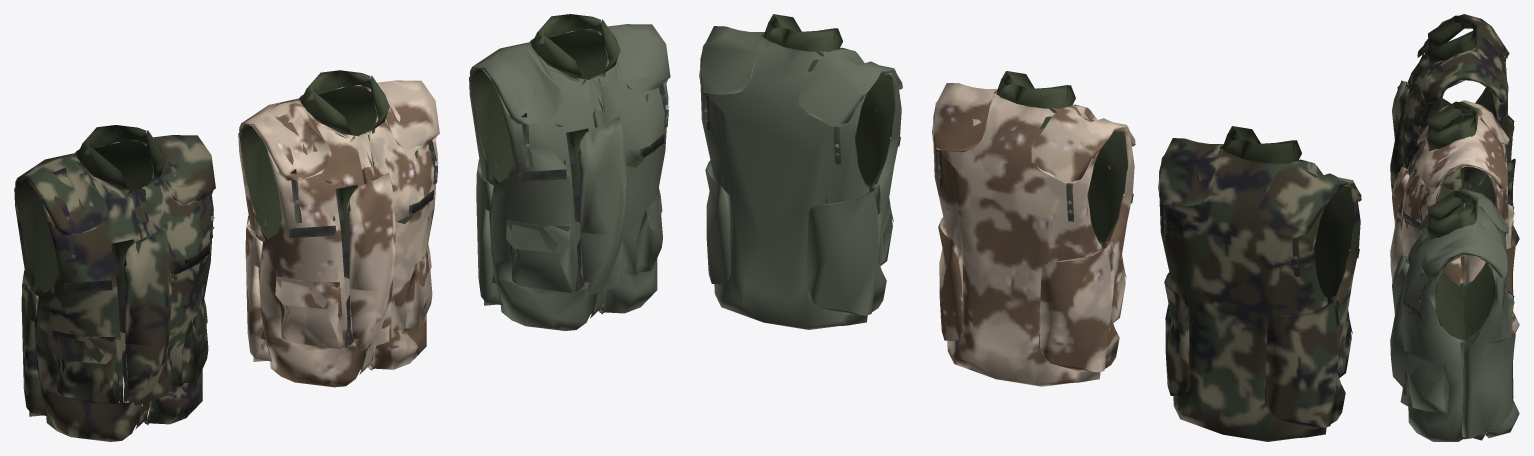
The model's file is SM_body_armor_flak_jacket_remaster_pack.glb.
3 renders of one model, left to right at view 1: azimuth 30°, elevation 25°; view 2: azimuth 150°, elevation 25°; view 3: azimuth 270°, elevation 25°, orthographic. The views are drawn at different scales.
Visible parts, largest first — view 1: SM_body_armor_flak_jacket_remaster_pack; view 2: SM_body_armor_flak_jacket_remaster_pack; view 3: SM_body_armor_flak_jacket_remaster_pack.
Part boxes in pixels (x1,y1,x2,y2): SM_body_armor_flak_jacket_remaster_pack: (14,14,670,441); SM_body_armor_flak_jacket_remaster_pack: (699,14,1361,441); SM_body_armor_flak_jacket_remaster_pack: (1390,14,1519,441).
Bounding box in the file's own units: 1.85 × 0.7755 × 0.4203.
3 materials, 3 textured.
